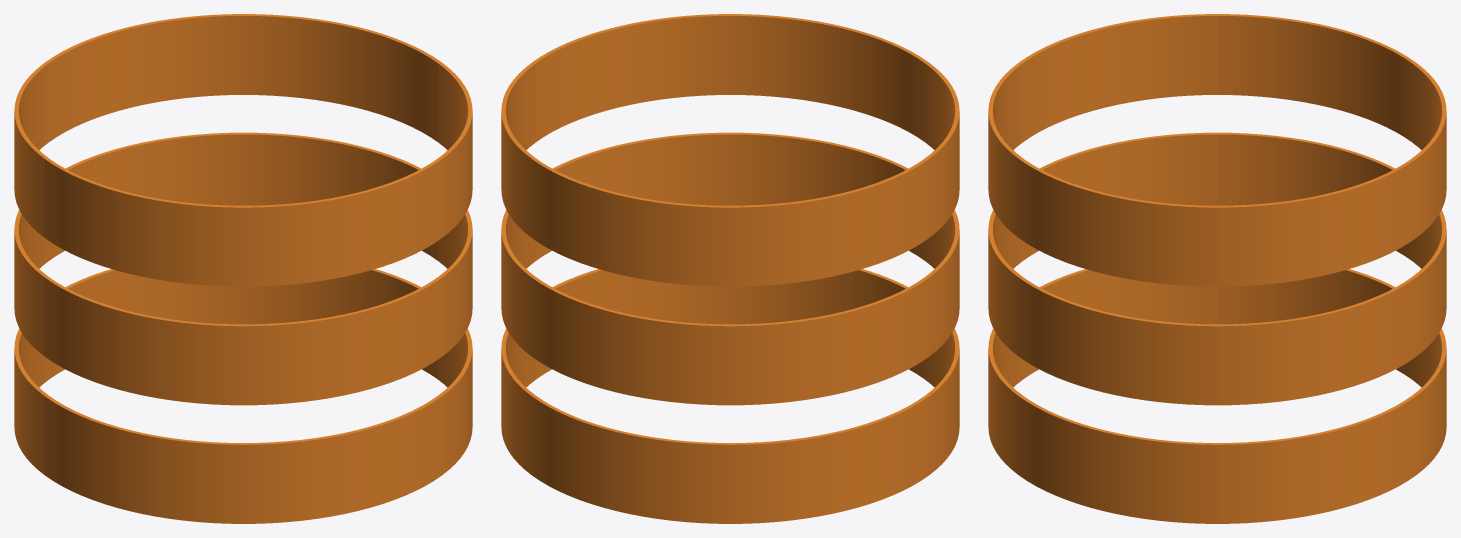
Rendered from process_liquor_clarifier_pressure.glb.
3 renders of one model, left to right at view 1: azimuth 30°, elevation 25°; view 2: azimuth 150°, elevation 25°; view 3: azimuth 270°, elevation 25°, orthographic.
Parts seen in each view (by area): view 1: pressure__front, pressure__back; view 2: pressure__back, pressure__front; view 3: pressure__back, pressure__front.
Boxes of the visible parts, x1=… form: pressure__front: x1=45, y1=62, x2=472, y2=523; pressure__back: x1=14, y1=14, x2=441, y2=474; pressure__back: x1=501, y1=62, x2=928, y2=523; pressure__front: x1=532, y1=14, x2=959, y2=474; pressure__back: x1=1217, y1=14, x2=1446, y2=523; pressure__front: x1=988, y1=14, x2=1217, y2=523.
Bounding box in the file's own units: 2.1 × 1.6 × 2.1.
